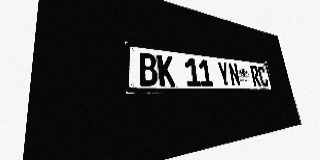1: (184, 57, 201, 86), (197, 59, 213, 86)
B: (138, 52, 158, 86)
C: (257, 66, 269, 87)
K: (157, 54, 175, 86)
N: (227, 62, 241, 86)
R: (250, 65, 262, 87)
Y: (217, 61, 231, 86)
